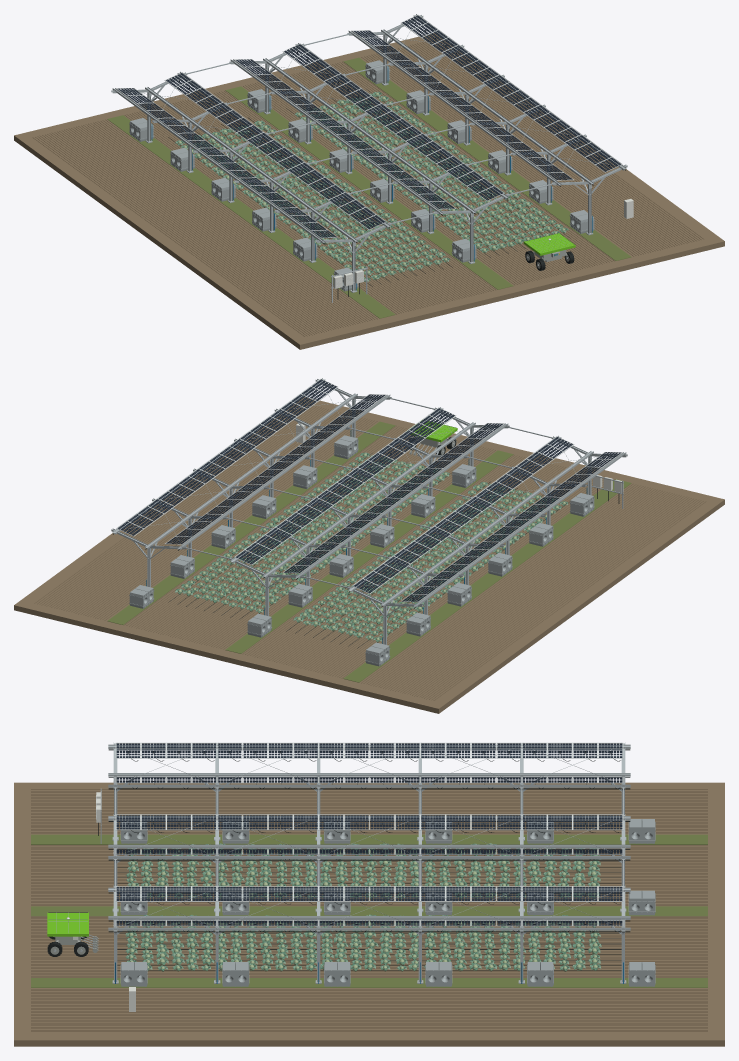
The model's file is witkowo.glb.
The picture shows the model from 3 angles, top to bottom: view 1: azimuth 30°, elevation 25°; view 2: azimuth 150°, elevation 25°; view 3: azimuth 270°, elevation 25°; orthographic projection. The views are drawn at different scales.
Visible parts, largest first — view 1: Site / soil tiles, Cultivated rows, Cabbage leaves (×2), Grass margins, Cabbage heads, Canopy 2 / photovoltaic cells, Canopy 1 / photovoltaic cells, Canopy 3 / photovoltaic cells, Site / soil, Canopy 1 / longitudinal girders, Canopy 2 / longitudinal girders, Canopy 3 / longitudinal girders (+15 smaller); view 2: Site / soil tiles, Cultivated rows, Cabbage leaves (×2), Grass margins, Cabbage heads, Canopy 2 / photovoltaic cells, Canopy 1 / photovoltaic cells, Canopy 3 / photovoltaic cells, Site / soil, Canopy 3 / molded water tanks, Canopy 1 / molded water tanks, Canopy 2 / molded water tanks (+14 smaller); view 3: Site / soil tiles, Cultivated rows, Cabbage leaves (×2), Grass margins, Canopy 1 / photovoltaic cells, Canopy 2 / photovoltaic cells, Canopy 3 / photovoltaic cells, Cabbage heads, Canopy 2 / longitudinal girders, Canopy 3 / longitudinal girders, Canopy 1 / longitudinal girders, Site / soil (+27 smaller).
Boxes of the visible parts, box(x1,y1,x2,y2) form: Site / soil tiles: box(14, 33, 724, 344); Cultivated rows: box(32, 41, 704, 336); Cabbage leaves (×2): box(175, 91, 568, 281); Grass margins: box(107, 57, 631, 318); Cabbage heads: box(178, 92, 565, 282); Canopy 2 / photovoltaic cells: box(236, 44, 502, 208); Canopy 1 / photovoltaic cells: box(118, 73, 384, 237); Canopy 3 / photovoltaic cells: box(354, 15, 620, 179); Site / soil: box(14, 136, 724, 349); Canopy 1 / longitudinal girders: box(112, 71, 390, 243); Canopy 2 / longitudinal girders: box(230, 43, 508, 214); Canopy 3 / longitudinal girders: box(348, 14, 626, 185); Site / soil tiles: box(14, 397, 724, 708); Cultivated rows: box(34, 405, 706, 700); Cabbage leaves (×2): box(175, 452, 568, 641); Grass margins: box(107, 421, 631, 682); Cabbage heads: box(178, 453, 565, 642); Canopy 2 / photovoltaic cells: box(236, 408, 502, 572); Canopy 1 / photovoltaic cells: box(354, 437, 620, 601); Canopy 3 / photovoltaic cells: box(118, 379, 384, 543); Site / soil: box(14, 500, 724, 713); Canopy 3 / molded water tanks: box(129, 435, 358, 608); Canopy 1 / molded water tanks: box(365, 493, 594, 666); Canopy 2 / molded water tanks: box(247, 464, 476, 637); Site / soil tiles: box(14, 782, 724, 1040); Cultivated rows: box(31, 789, 707, 1031); Cabbage leaves (×2): box(125, 843, 601, 971); Grass margins: box(31, 834, 707, 987); Canopy 1 / photovoltaic cells: box(116, 743, 622, 782); Canopy 2 / photovoltaic cells: box(116, 815, 622, 854); Canopy 3 / photovoltaic cells: box(116, 887, 622, 925); Cabbage heads: box(129, 844, 597, 971); Canopy 2 / longitudinal girders: box(108, 816, 630, 859); Canopy 3 / longitudinal girders: box(108, 887, 630, 930); Canopy 1 / longitudinal girders: box(108, 744, 630, 787); Site / soil: box(14, 1040, 724, 1046).
Bounding box in the file's own units: 36 × 5.44 × 42.
